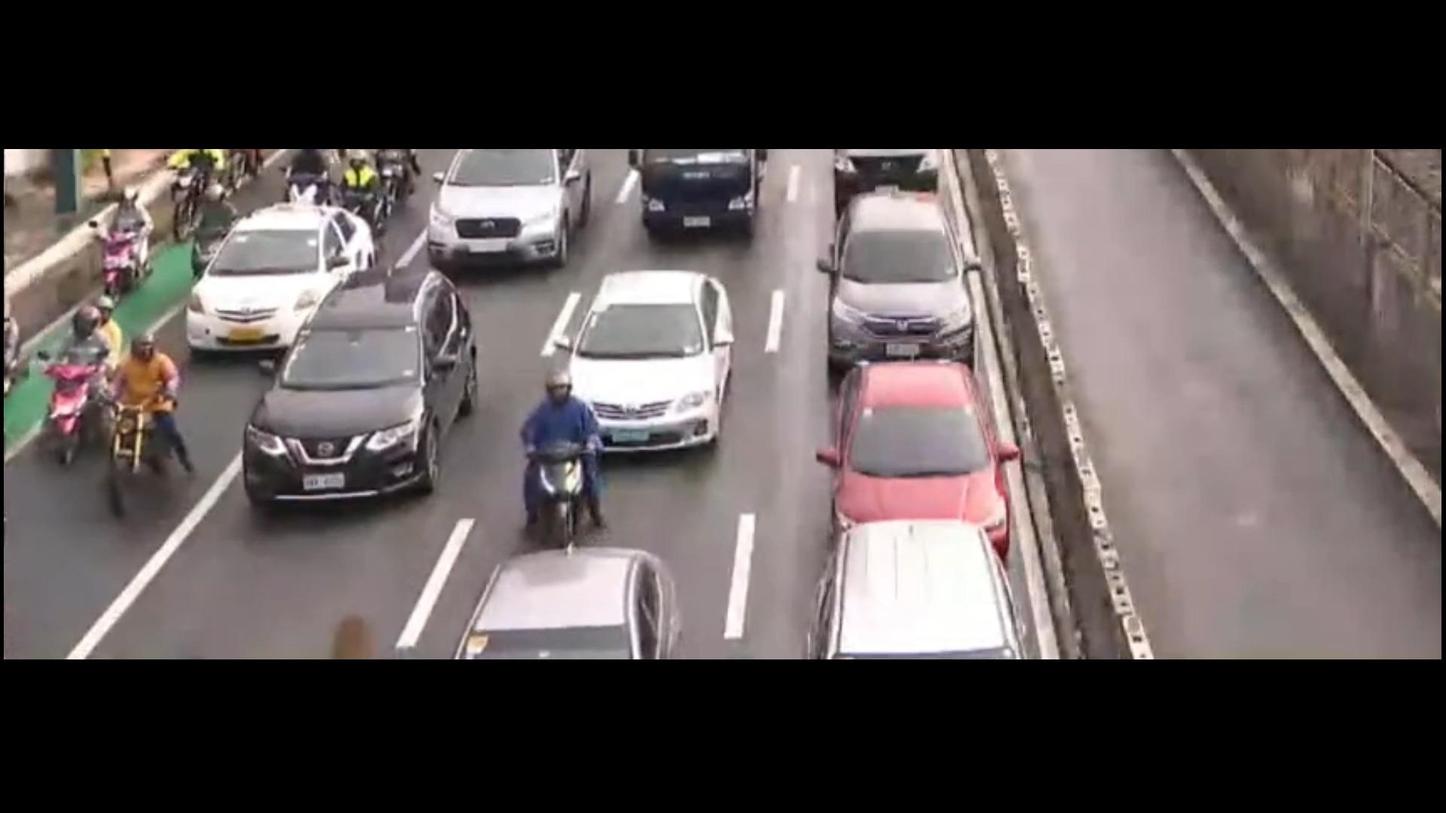Motorcycle: (100, 322, 198, 519), (510, 361, 599, 548), (47, 292, 126, 459), (75, 173, 164, 299), (179, 162, 237, 288), (331, 138, 386, 243), (279, 142, 330, 207)
SUV: (265, 273, 473, 489), (810, 514, 1026, 661), (823, 188, 981, 352), (412, 151, 599, 282)
Sedan: (823, 369, 1026, 542), (563, 271, 736, 459), (179, 205, 378, 352), (469, 546, 695, 661)
Truck: (625, 149, 774, 248)
